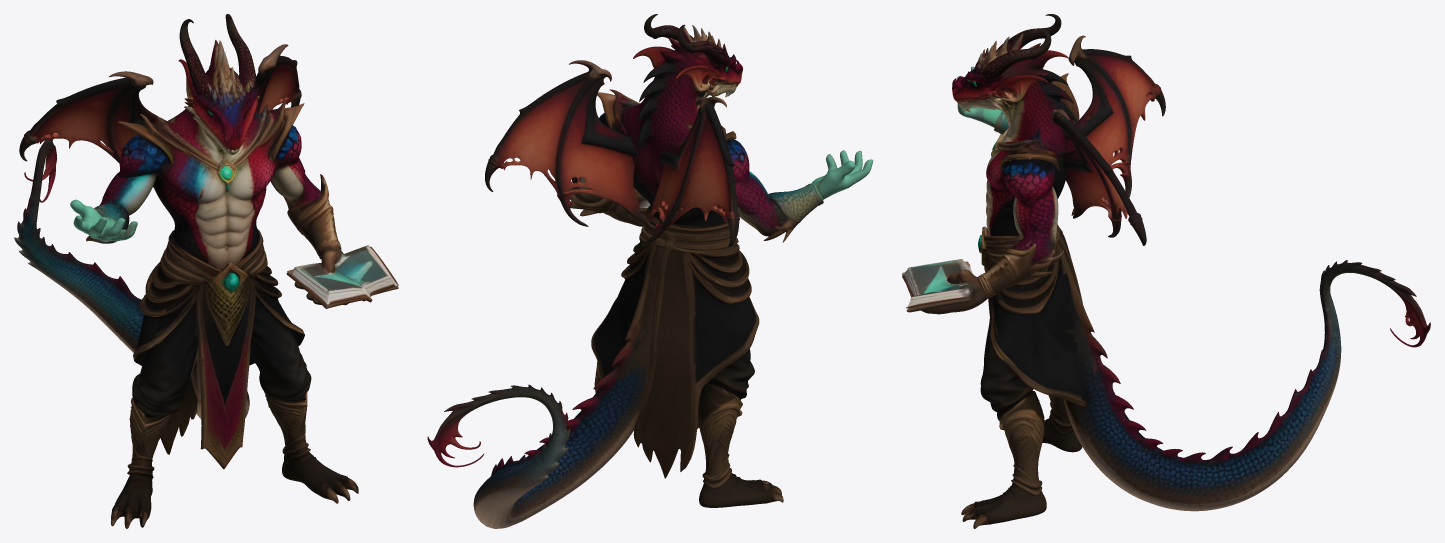
Rendered from dragonborn_mage_full_male_01.glb.
3 views of the same model, side by side, from view 1: azimuth 30°, elevation 25°; view 2: azimuth 150°, elevation 25°; view 3: azimuth 270°, elevation 25° (orthographic). The views are drawn at different scales.
Visible parts, largest first — view 1: material; view 2: material; view 3: material.
Boxes of the visible parts, x1,y1,x2,y2 form: material: [14, 14, 398, 528]; material: [427, 14, 873, 528]; material: [902, 14, 1430, 528].
Size of the model in its own units: 0.594 by 0.8722 by 0.9176.
Materials: 1 (1 with a texture image).
